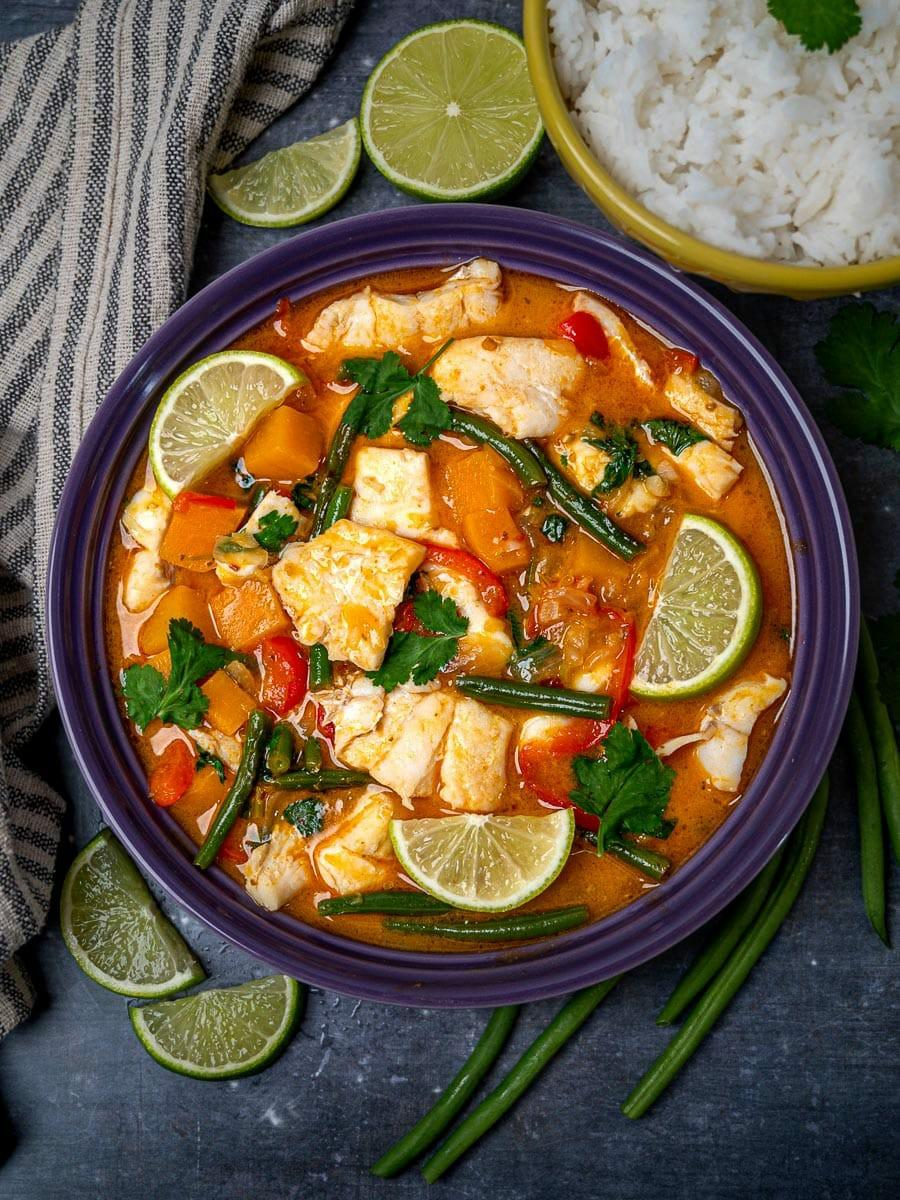FishCurry: (104, 257, 801, 955)
WhiteRice: (552, 0, 900, 258)
